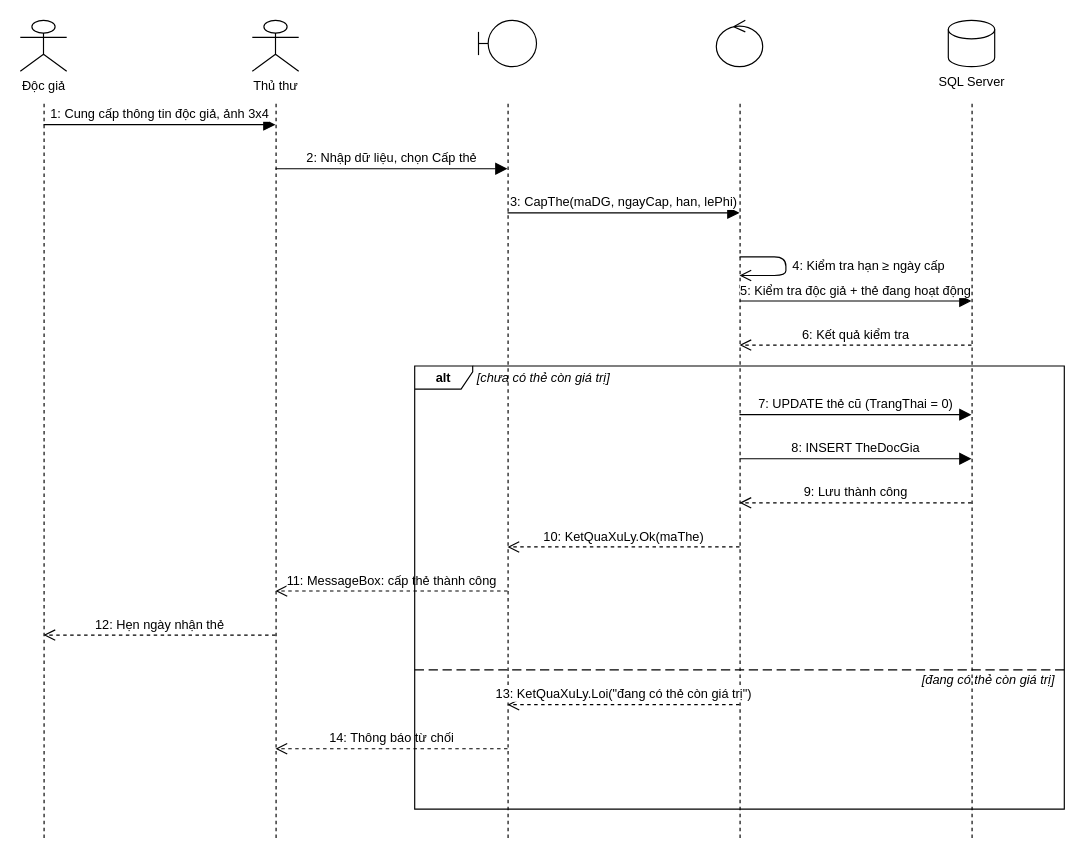
Some shapes in this 1086 by 860 pixel diagram are drawn without their labels. Each missing label, with the box of its shape:
DocGiaService: (715, 19, 763, 67)
FrmDocGia: (477, 19, 536, 67)
